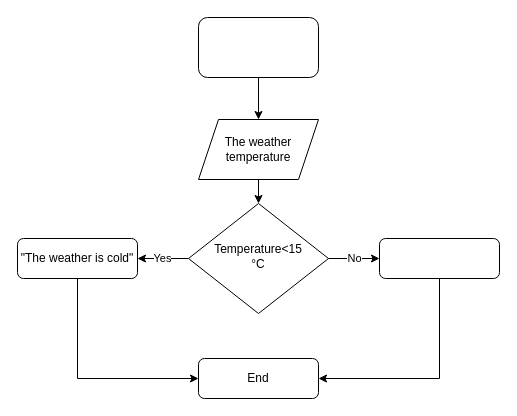
Image size: 517x416. Some labels were removed from this diagram. The centre of each missing label's shape, as x and y in pixels:
"The weather is hot": the point at 439,258
Start: the point at 258,47
